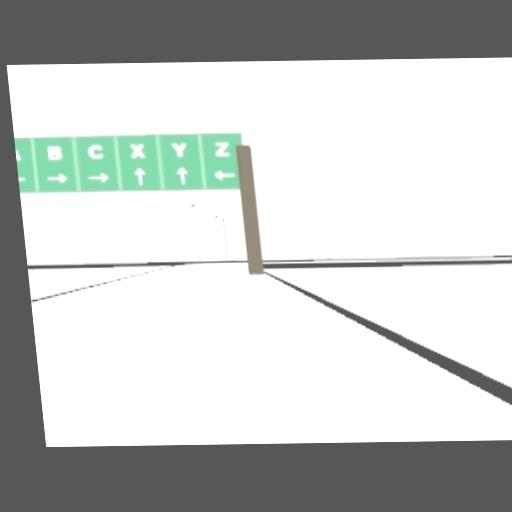A: (15, 144, 20, 160)
B: (46, 145, 62, 160)
C: (86, 143, 104, 158)
Left: (212, 169, 235, 181), (18, 175, 27, 181)
Right: (45, 172, 69, 183), (86, 172, 111, 182)
Straight: (133, 167, 146, 185), (175, 167, 188, 185)
X: (128, 143, 145, 158)
Y: (170, 142, 187, 157)
Z: (213, 141, 231, 157)
